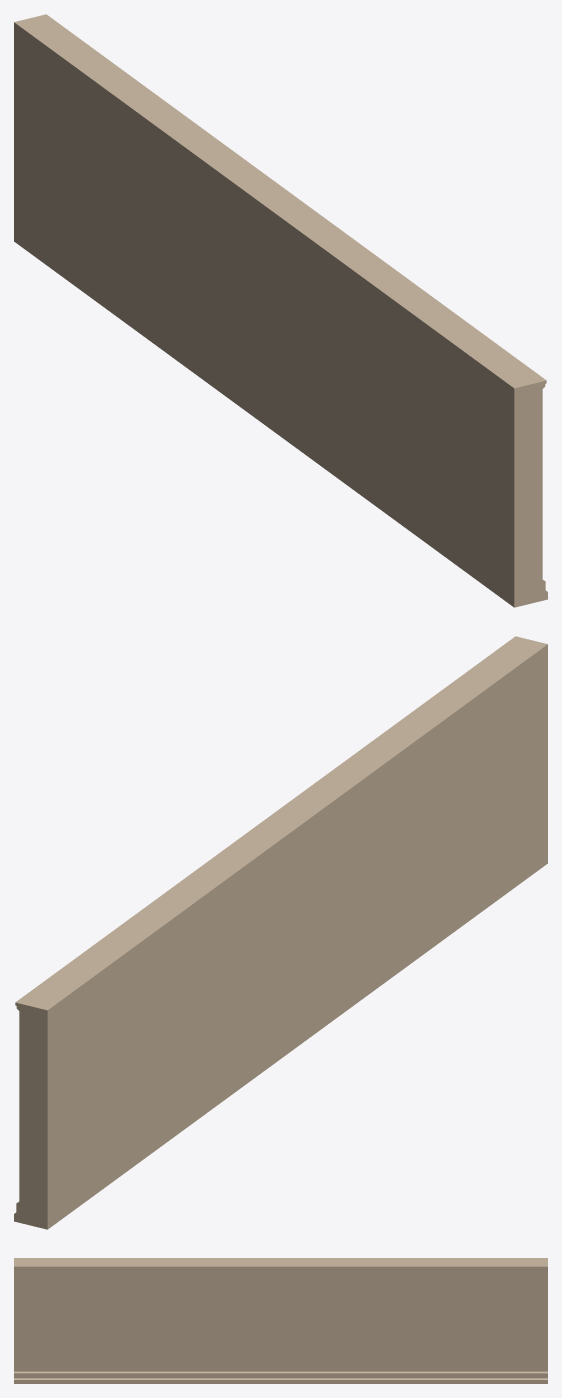
The model's file is BC_Wall_H.fbx.
3 views of the same model, one above another, from view 1: azimuth 30°, elevation 25°; view 2: azimuth 150°, elevation 25°; view 3: azimuth 270°, elevation 25° (orthographic). The views are drawn at different scales.
Visible parts, largest first — view 1: BC_Wall_H; view 2: BC_Wall_H; view 3: BC_Wall_H.
Part boxes in pixels (x1,y1,x2,y2): BC_Wall_H: (14,14,547,607); BC_Wall_H: (14,636,547,1229); BC_Wall_H: (14,1258,547,1383).
Bounding box in the file's own units: 283 × 1761 × 7280.
